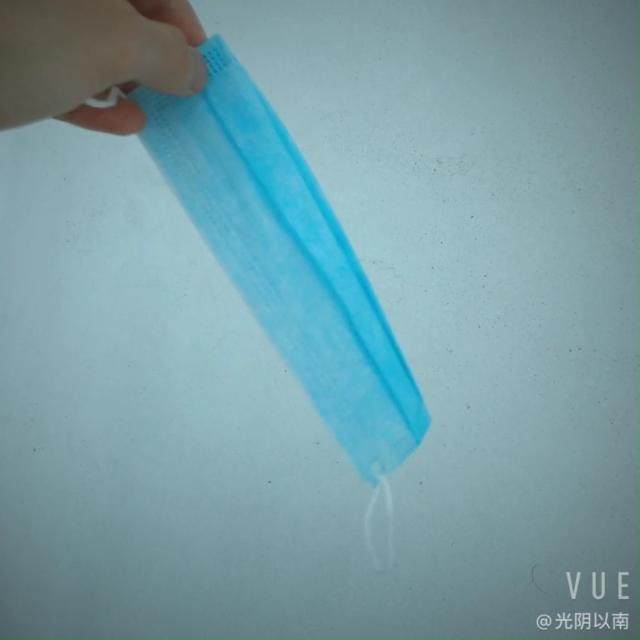non-organic waste: (92, 20, 454, 512)
